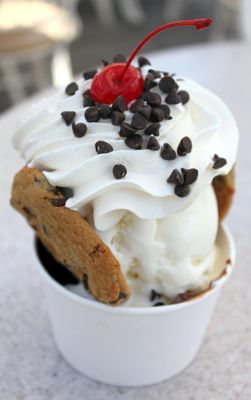sushi: (9, 59, 240, 308)
